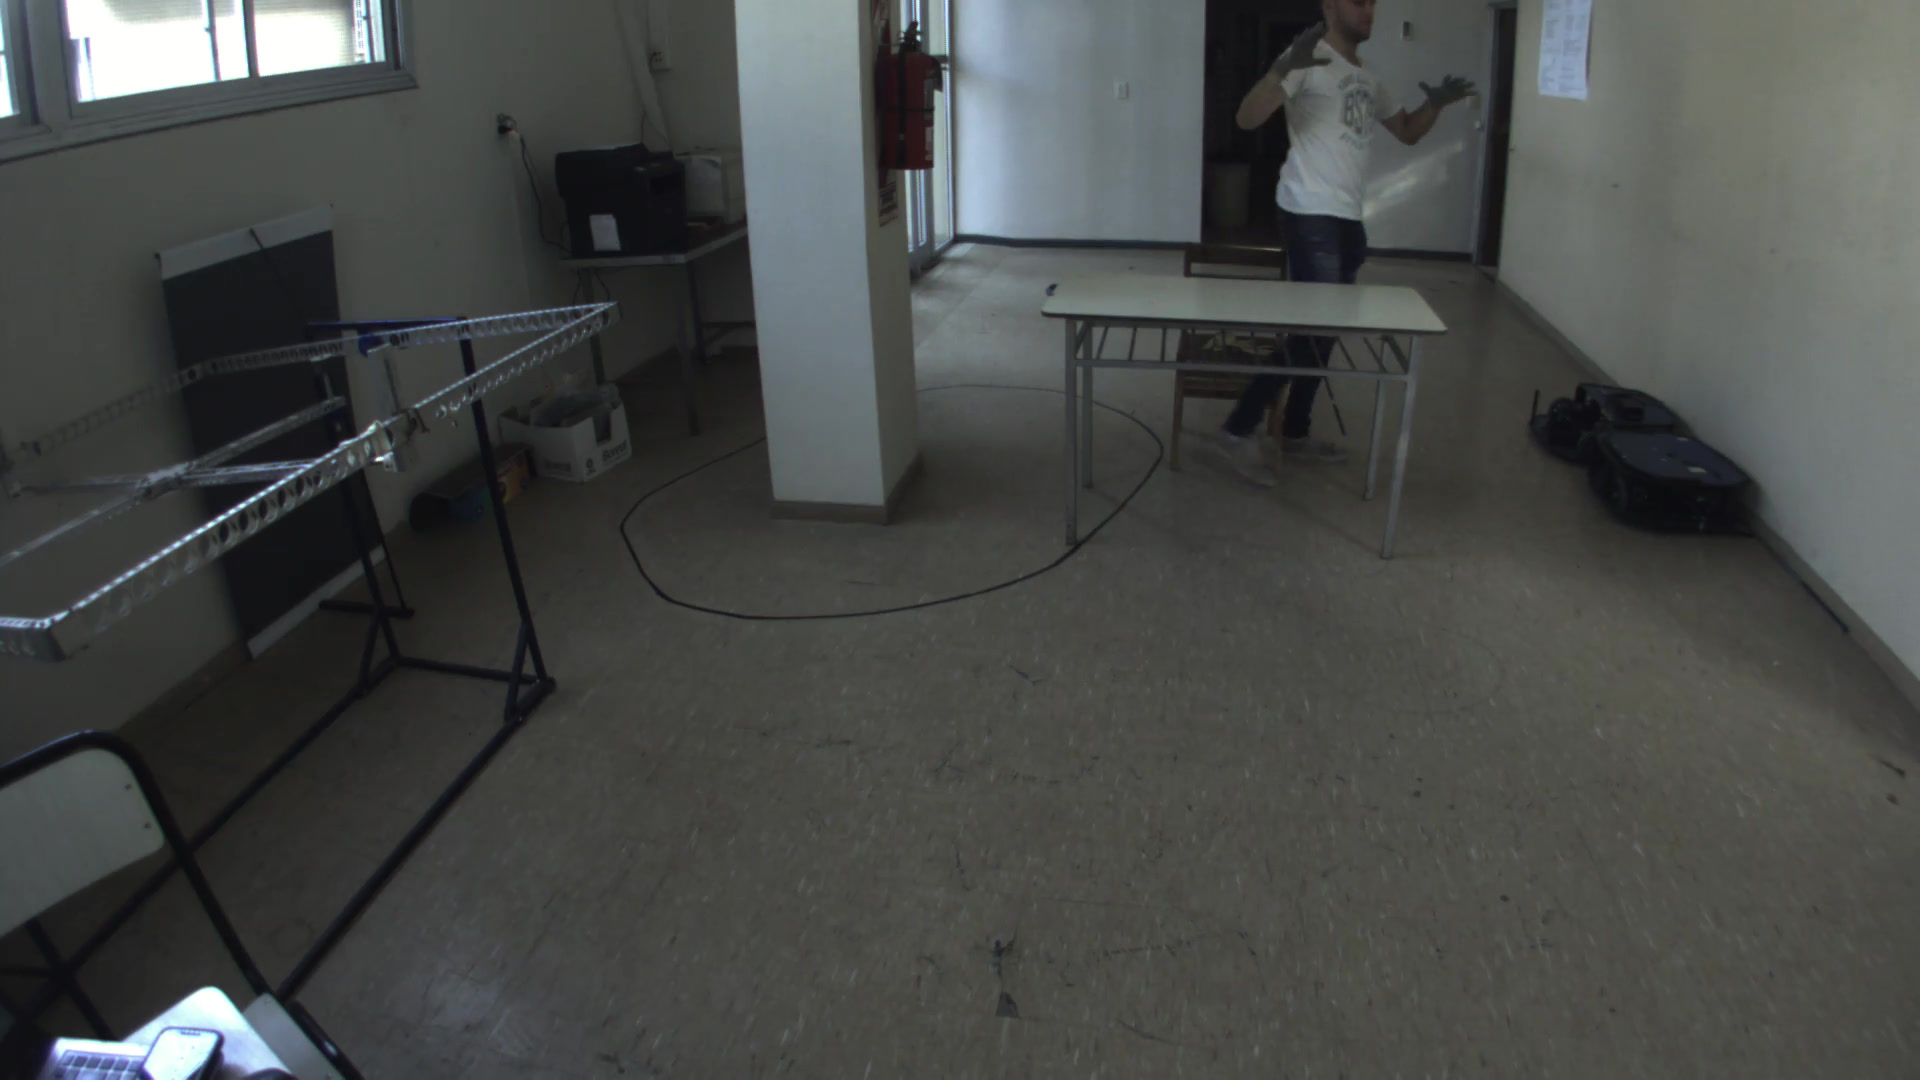hand: (1386, 73, 1484, 142), (1273, 17, 1346, 87)
